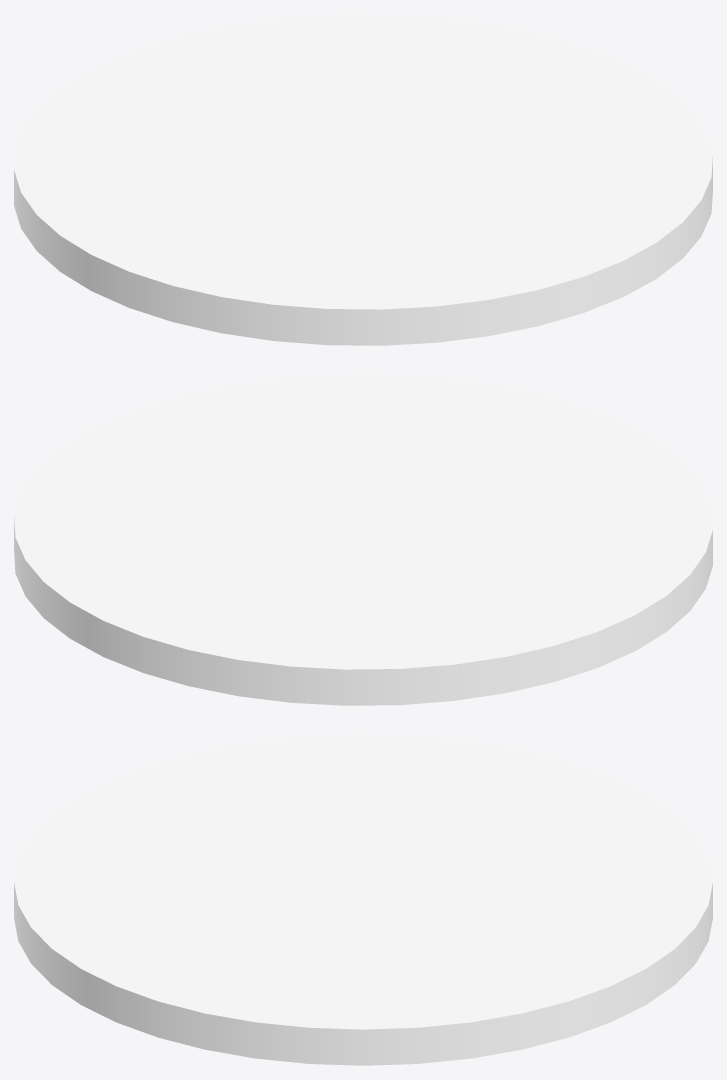
The model's file is pad-ffffff.glb.
3 renders of one model, top to bottom at view 1: azimuth 30°, elevation 25°; view 2: azimuth 150°, elevation 25°; view 3: azimuth 270°, elevation 25°, orthographic.
Visible parts, largest first — view 1: plat; view 2: plat; view 3: plat.
Part boxes in pixels (x1=…): plat: x1=14, y1=14, x2=712, y2=345; plat: x1=14, y1=374, x2=712, y2=705; plat: x1=14, y1=734, x2=712, y2=1065.
Bounding box in the file's own units: 1.4 × 0.08 × 1.4.
1 material, 1 textured.
